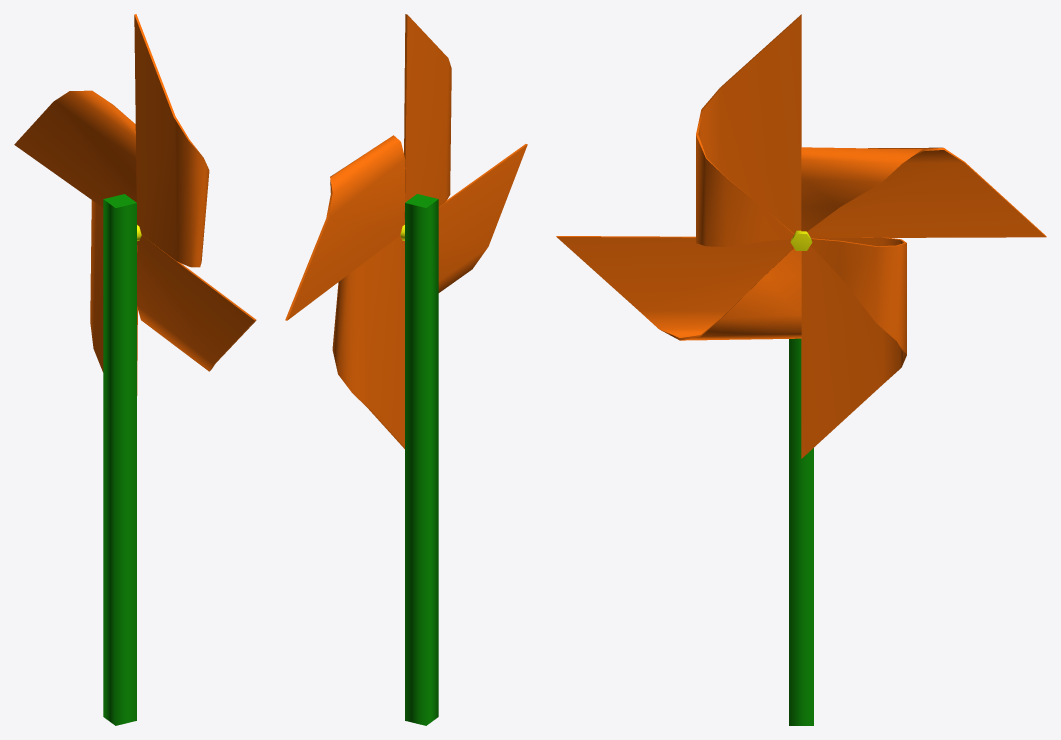
Rendered from paper_spinner_low.fbx.
3 renders of one model, left to right at view 1: azimuth 30°, elevation 25°; view 2: azimuth 150°, elevation 25°; view 3: azimuth 270°, elevation 25°, orthographic.
Parts seen in each view (by area): view 1: stick_low, blade_4_low, blade_1_low, blade_3_low, blade_2_low; view 2: stick_low, blade_2_low, blade_1_low, blade_4_low, blade_3_low; view 3: blade_4_low, blade_3_low, blade_2_low, blade_1_low, stick_low.
Part boxes in pixels (x1,y1,x2,y2): stick_low: (103,194,136,725); blade_4_low: (134,14,209,267); blade_1_low: (14,90,136,207); blade_3_low: (137,235,256,371); blade_2_low: (90,200,137,395); stick_low: (405,194,438,725); blade_2_low: (332,236,404,448); blade_1_low: (285,135,405,320); blade_4_low: (404,14,451,224); blade_3_low: (438,144,527,292); blade_4_low: (696,14,801,246); blade_3_low: (556,236,801,340); blade_2_low: (801,237,906,458); blade_1_low: (801,147,1046,237); stick_low: (789,338,813,725).
Bounding box in the file's own units: 78.23 × 965 × 600.
